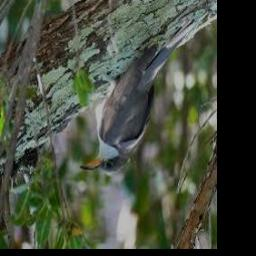Cuckoo: (81, 34, 187, 176)
